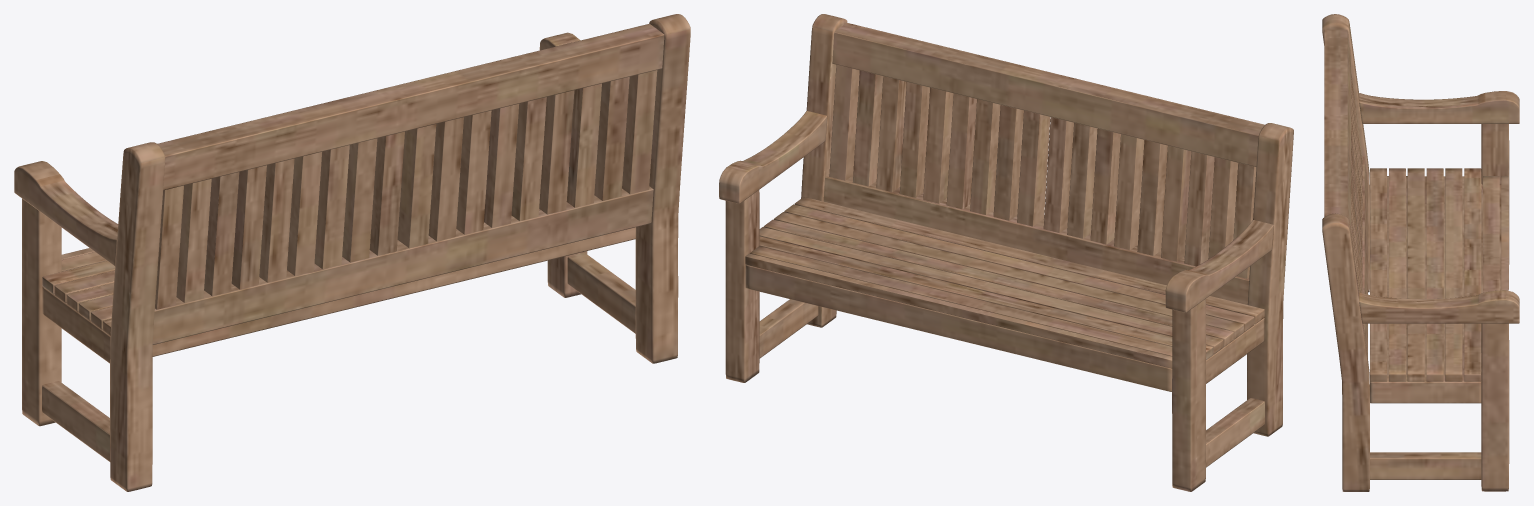
Rendered from Chair39.glb.
3 renders of one model, left to right at view 1: azimuth 30°, elevation 25°; view 2: azimuth 150°, elevation 25°; view 3: azimuth 270°, elevation 25°, orthographic. The views are drawn at different scales.
Parts seen in each view (by area): view 1: Chair39_model; view 2: Chair39_model; view 3: Chair39_model.
Part boxes in pixels (x1,y1,x2,y2): Chair39_model: [14, 14, 690, 491]; Chair39_model: [719, 14, 1293, 491]; Chair39_model: [1322, 14, 1519, 491].
Size of the model in its own units: 3.43 by 2.06 by 1.37.
Materials: 1 (1 with a texture image).
